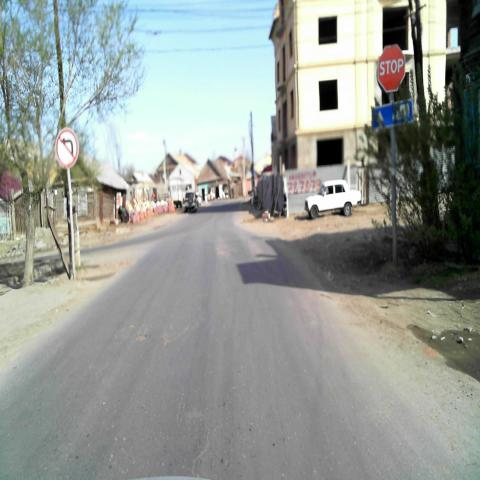2_5: (376, 43, 406, 93)
3_18_2: (54, 126, 78, 168)
6_15_1: (372, 99, 412, 128)
